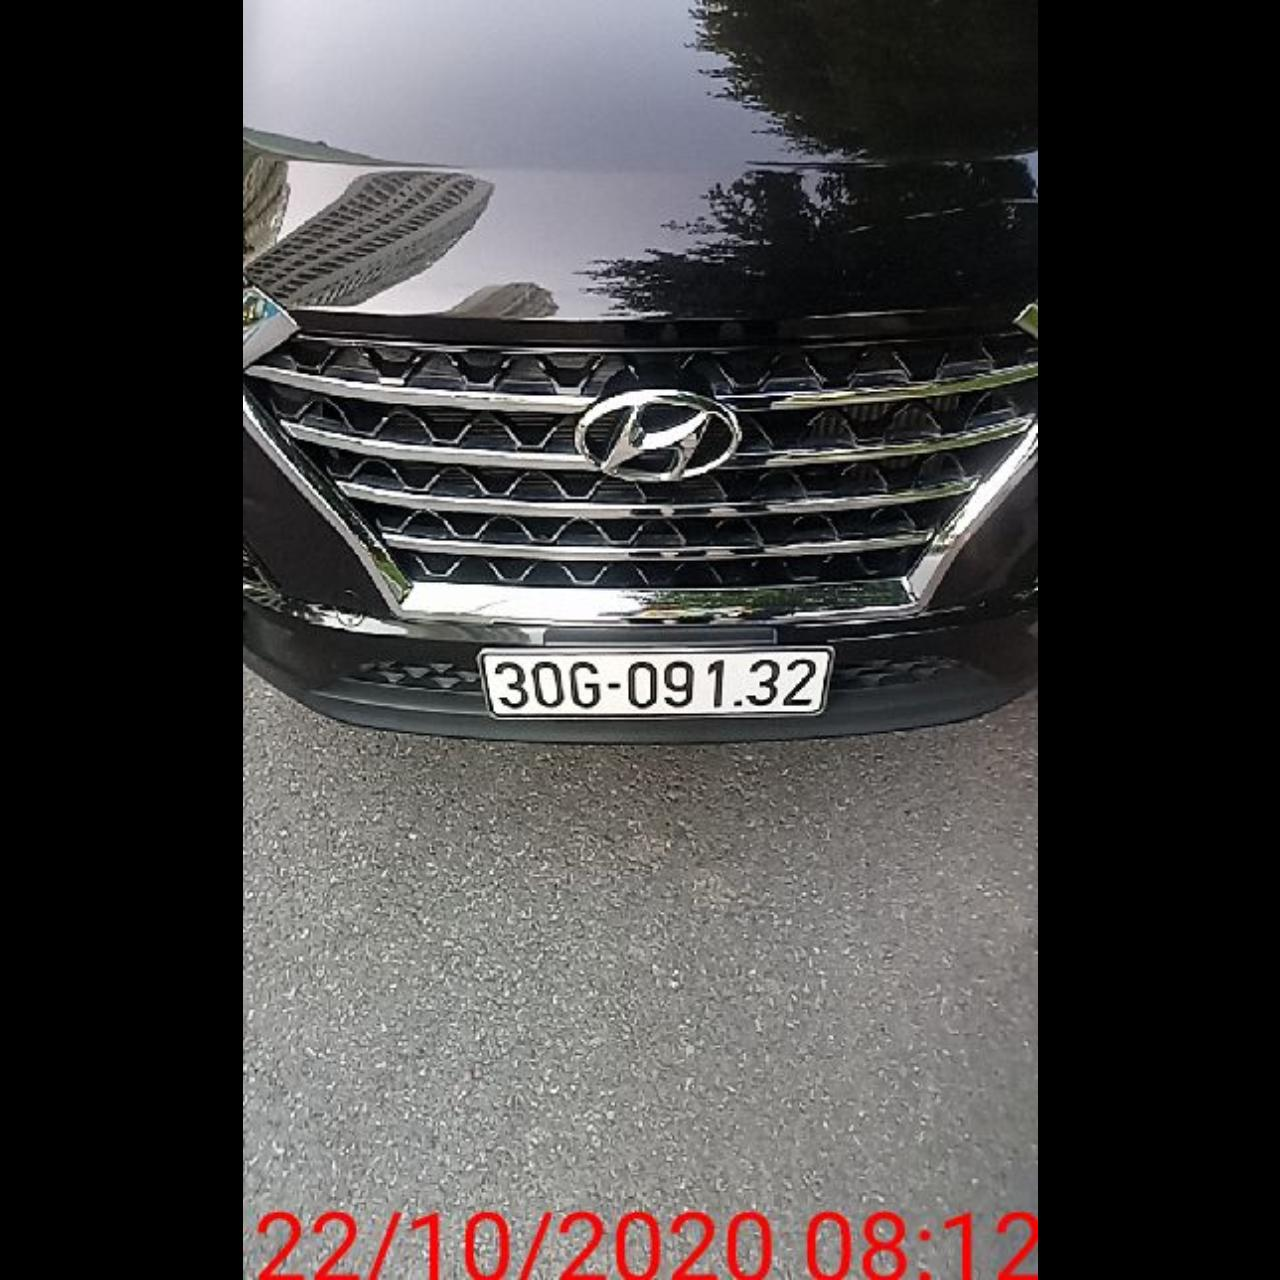bienso: (475, 642, 835, 724)
